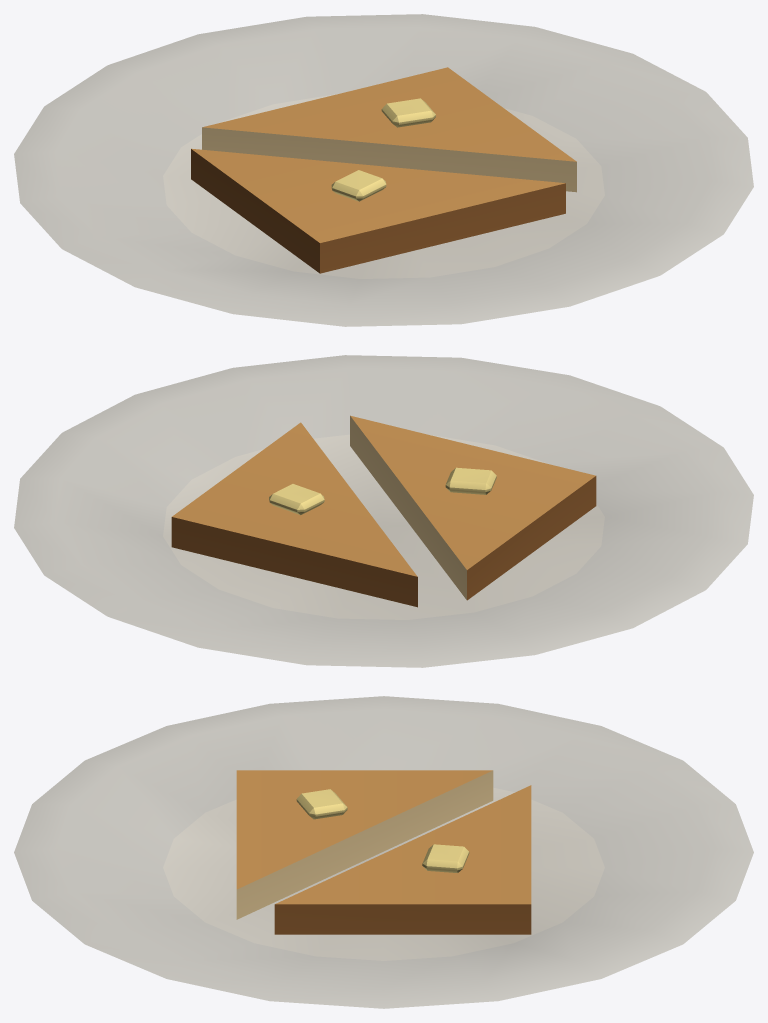
File: toast.glb
3 views of the same model, one above another, from view 1: azimuth 30°, elevation 25°; view 2: azimuth 150°, elevation 25°; view 3: azimuth 270°, elevation 25° (orthographic).
Visible parts, largest first — view 1: toast; view 2: toast; view 3: toast.
Part boxes in pixels (box(x1,y1,x2,y2)): toast: box(14, 14, 753, 326); toast: box(14, 355, 753, 667); toast: box(14, 696, 753, 1008).
Bounding box in the file's own units: 0.288 × 0.027 × 0.288.
